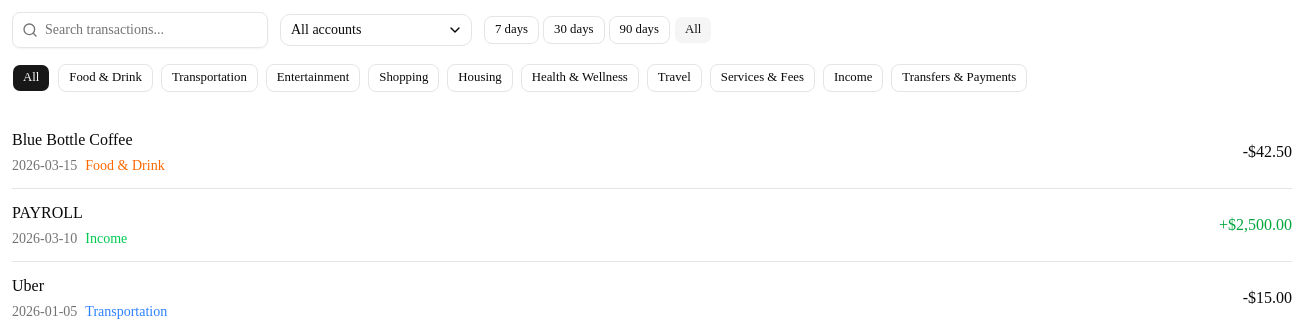
Scenario: TransactionList › filters by account
Select "Savings (****5678)" in the dropdown named "Filter by account": (376, 30) [280,14,472,46]
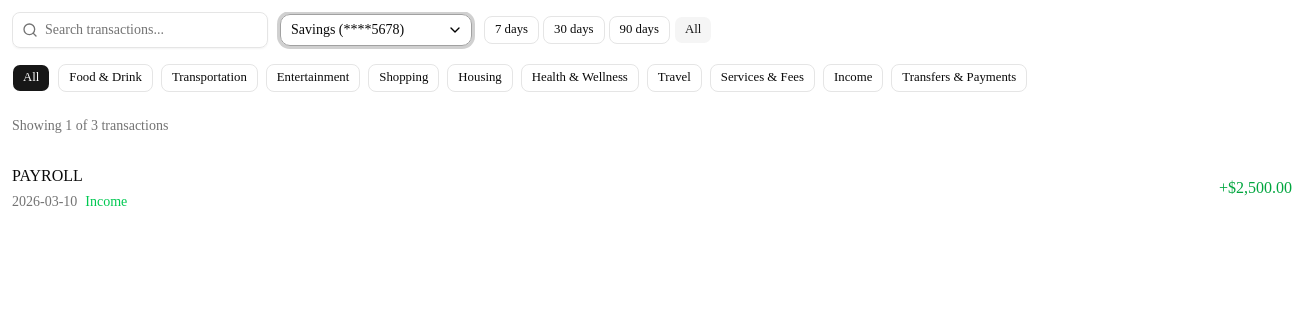
Expected: the text "PAYROLL" is shown, [12,167,83,184]
Expected: the text "Blue Bottle Coffee" is gone
Expected: the text "Uber" is gone
